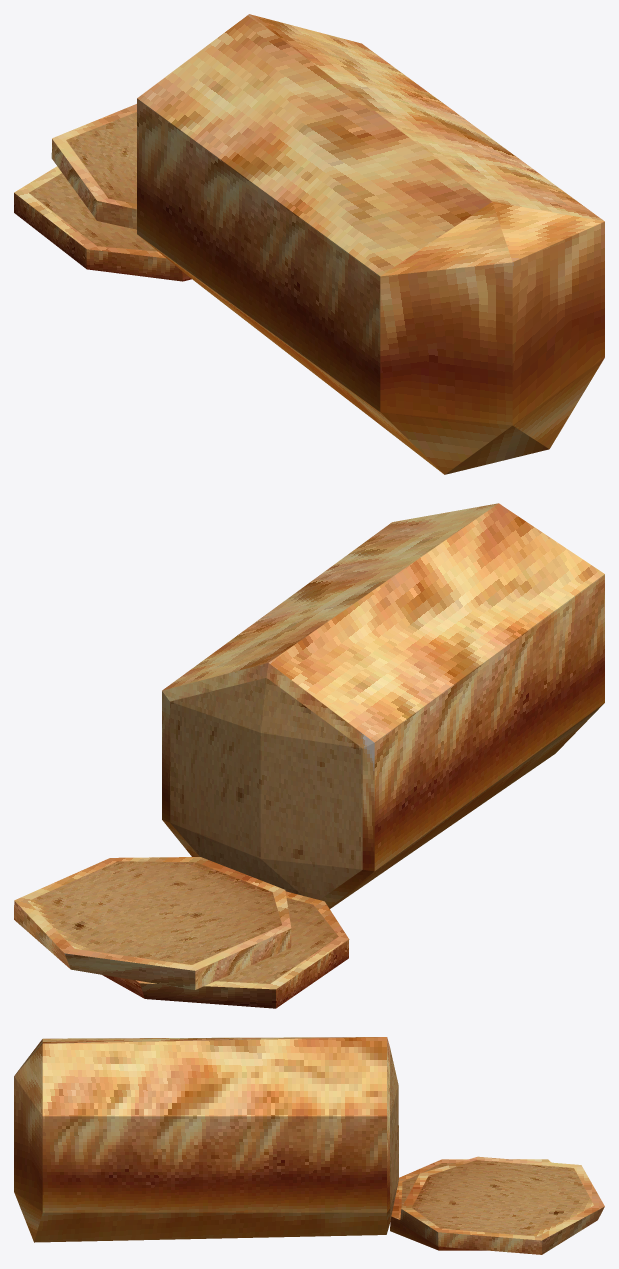
3 views of the same model, one above another, from view 1: azimuth 30°, elevation 25°; view 2: azimuth 150°, elevation 25°; view 3: azimuth 270°, elevation 25° (orthographic). The views are drawn at different scales.
Parts seen in each view (by area): view 1: beveled_cuboid; view 2: beveled_cuboid; view 3: beveled_cuboid.
Part boxes in pixels (bbox=[...]): beveled_cuboid: bbox=[14, 14, 604, 474]; beveled_cuboid: bbox=[14, 503, 604, 1008]; beveled_cuboid: bbox=[14, 1037, 604, 1254].
Bounding box in the file's own units: 1.26 × 1.13 × 3.22.
1 material, 1 textured.
